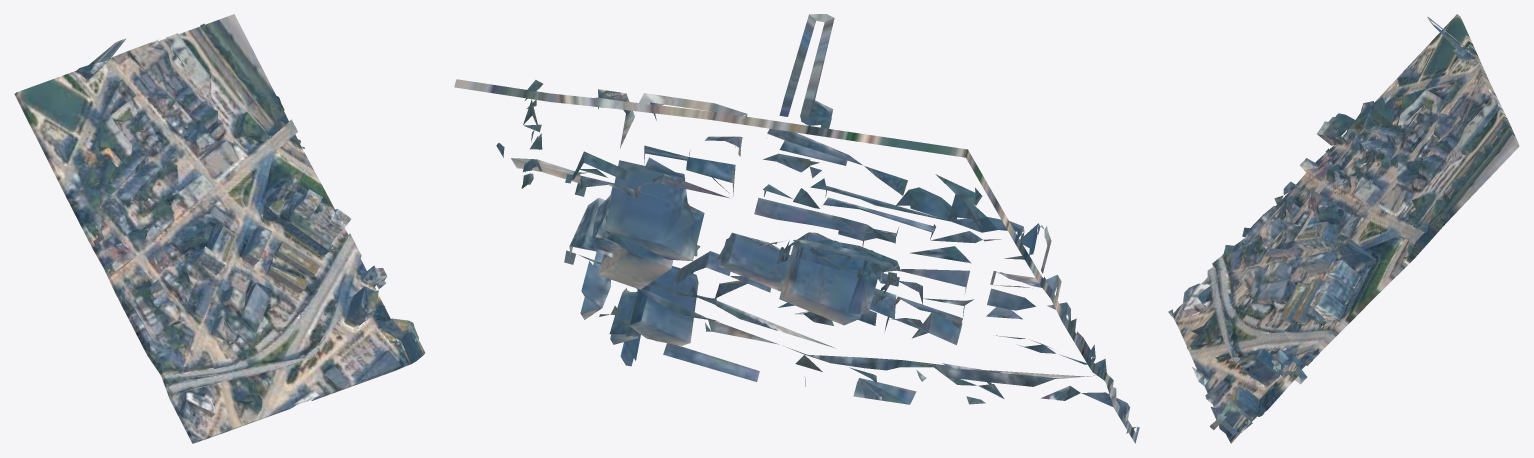
The model's file is AJVsH2yWopwnvwyzFFxmJzBMN7x5_c9we0plHbpTMCY9l6z0hCi0AJs-KyE-VnULY2sMMvlRB9NM7a9RUzLW0XqCev-AftIeTjX94-ObmeGf-Gp2QsxFh9LOYJq7thfUd7XRb7SYIgXuk87roJPBqCAOT1ymKFUJkw.glb.
The picture shows the model from 3 angles, left to right: view 1: azimuth 30°, elevation 25°; view 2: azimuth 150°, elevation 25°; view 3: azimuth 270°, elevation 25°; orthographic projection. The views are drawn at different scales.
Size of the model in its own units: 521 by 519 by 508.
Materials: 2 (2 with a texture image).
